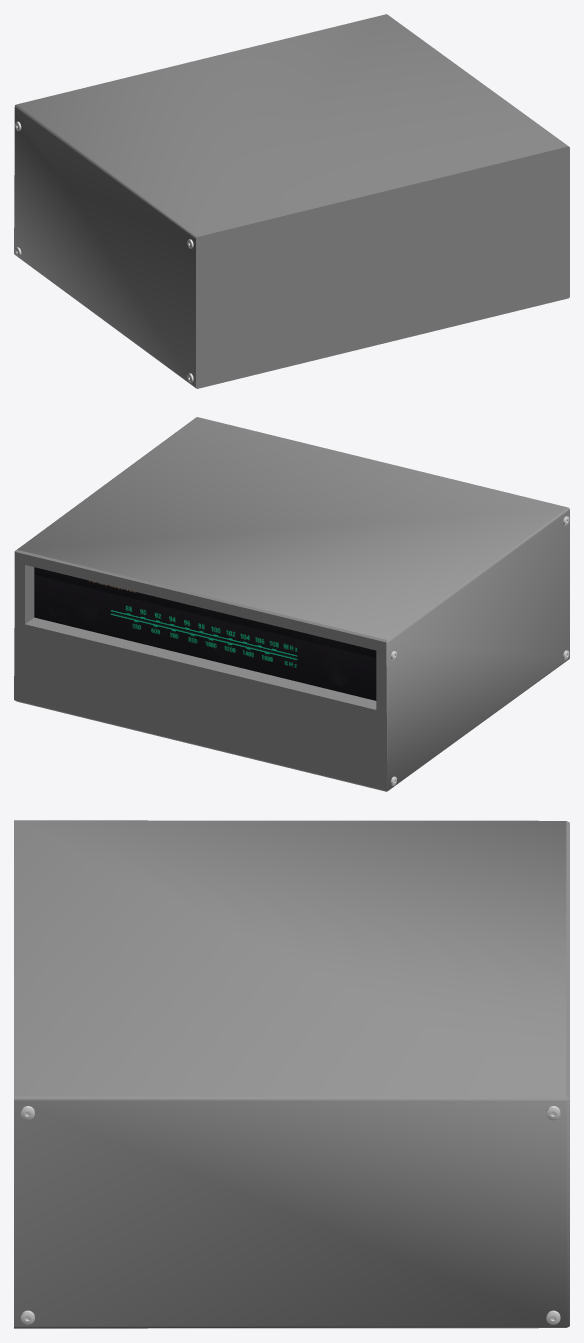
The model's file is Me-Scanner 1.FBX.
3 views of the same model, one above another, from view 1: azimuth 30°, elevation 25°; view 2: azimuth 150°, elevation 25°; view 3: azimuth 270°, elevation 25° (orthographic). The views are drawn at different scales.
Visible parts, largest first — view 1: Cylinder010; view 2: Cylinder010, Plane002; view 3: Cylinder010.
Boxes of the visible parts, box(x1,y1,x2,y2) form: Cylinder010: box(14, 14, 569, 388); Cylinder010: box(14, 417, 569, 791); Plane002: box(34, 567, 376, 700); Cylinder010: box(14, 820, 569, 1328).
Bounding box in the file's own units: 66.39 × 25.45 × 55.33.
